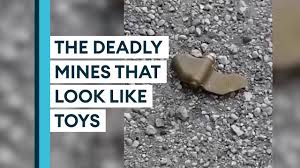butterfly: (170, 49, 254, 101)
